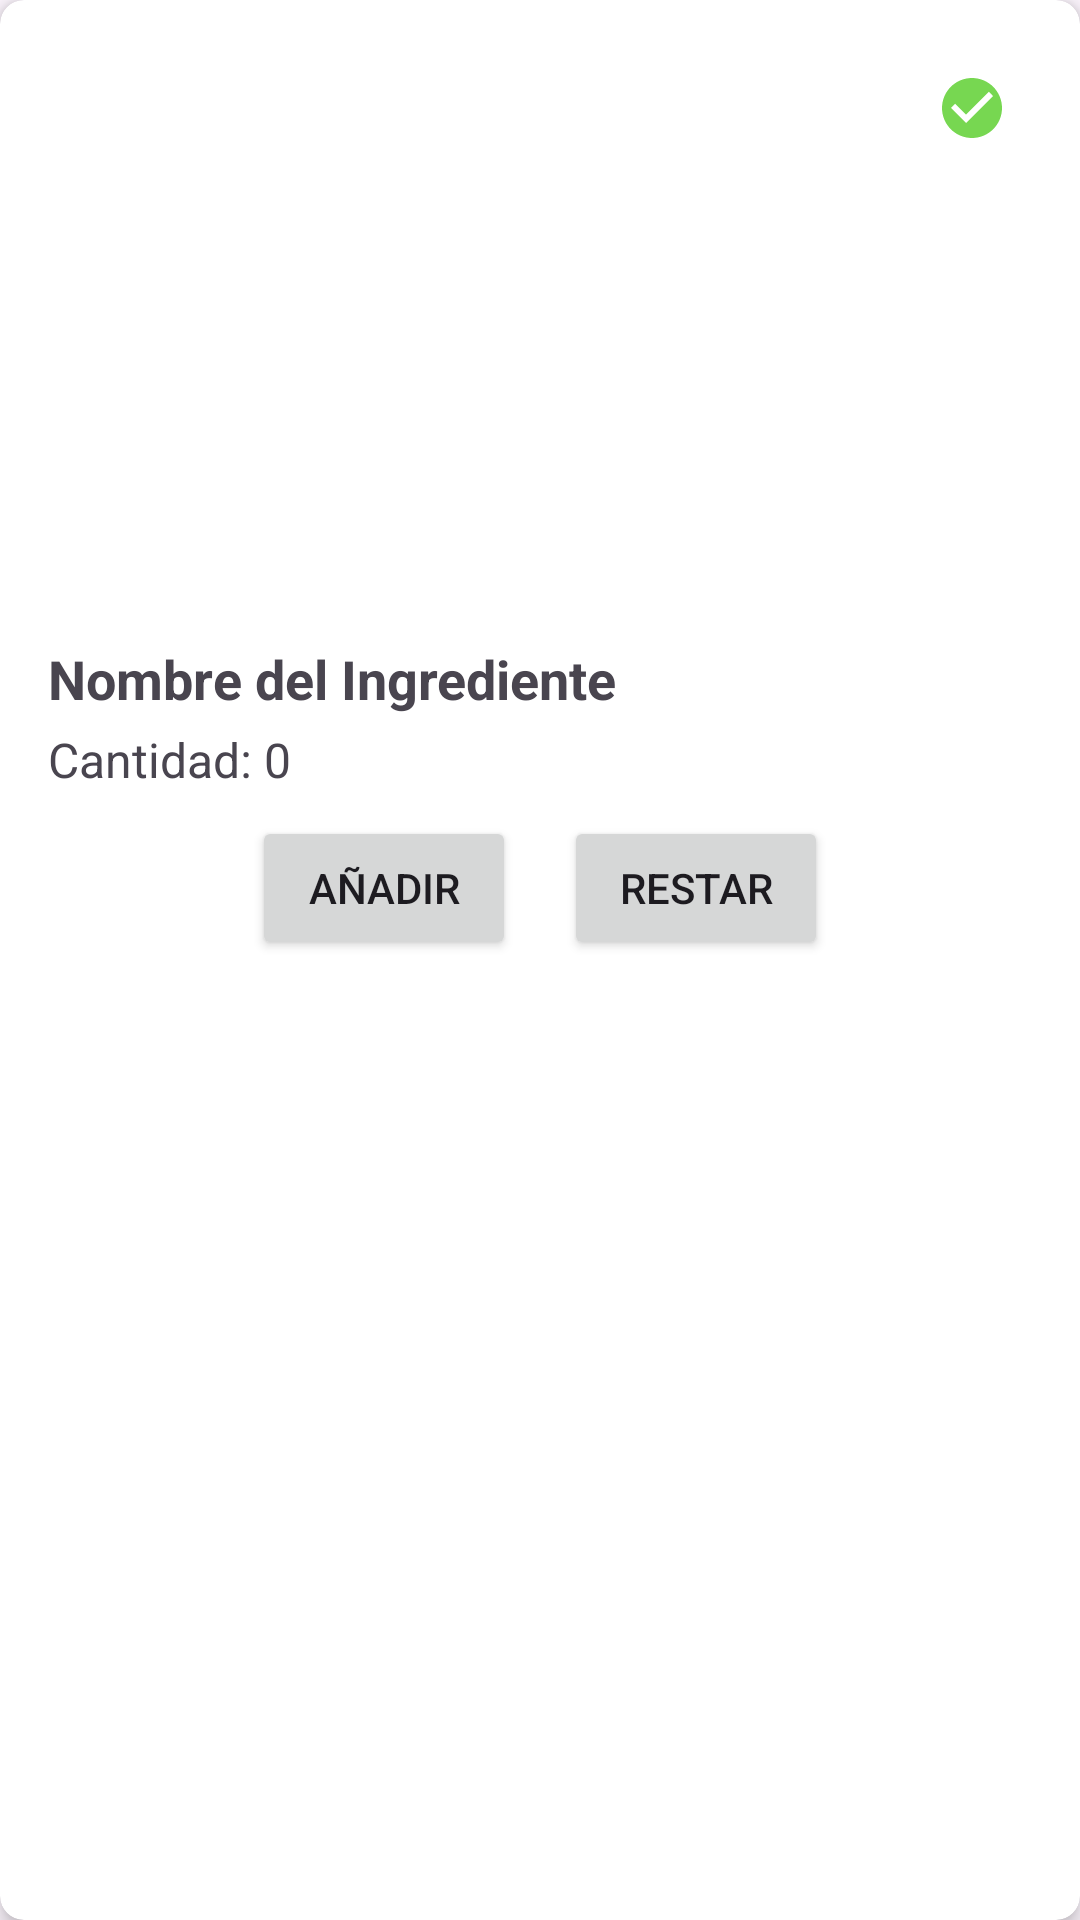

Icons on this 1080x1920 Android screen, each with its box as Rect(x1, y1, x2, y2):
chek: Rect(942, 78, 1002, 138)
